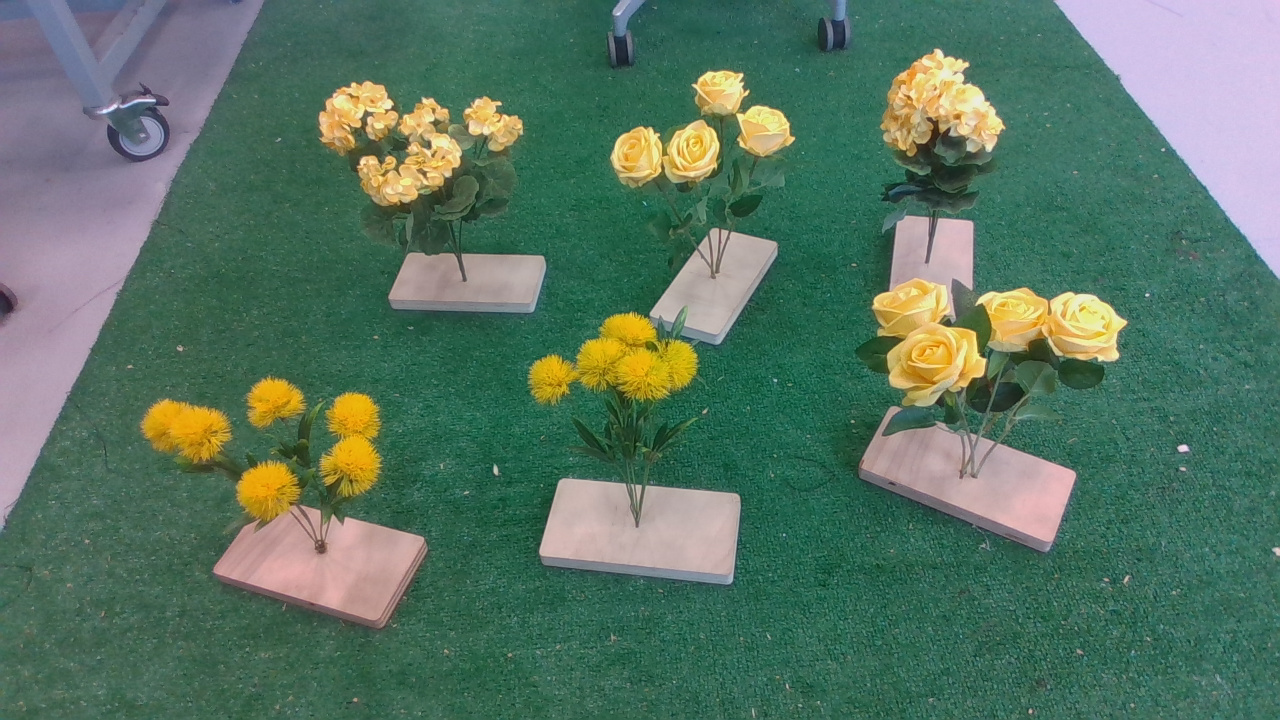dandelion: (131, 376, 401, 535), (524, 309, 722, 464)
geranium: (315, 74, 534, 258), (872, 49, 1015, 242)
rose: (857, 281, 1138, 457), (607, 69, 805, 233)
